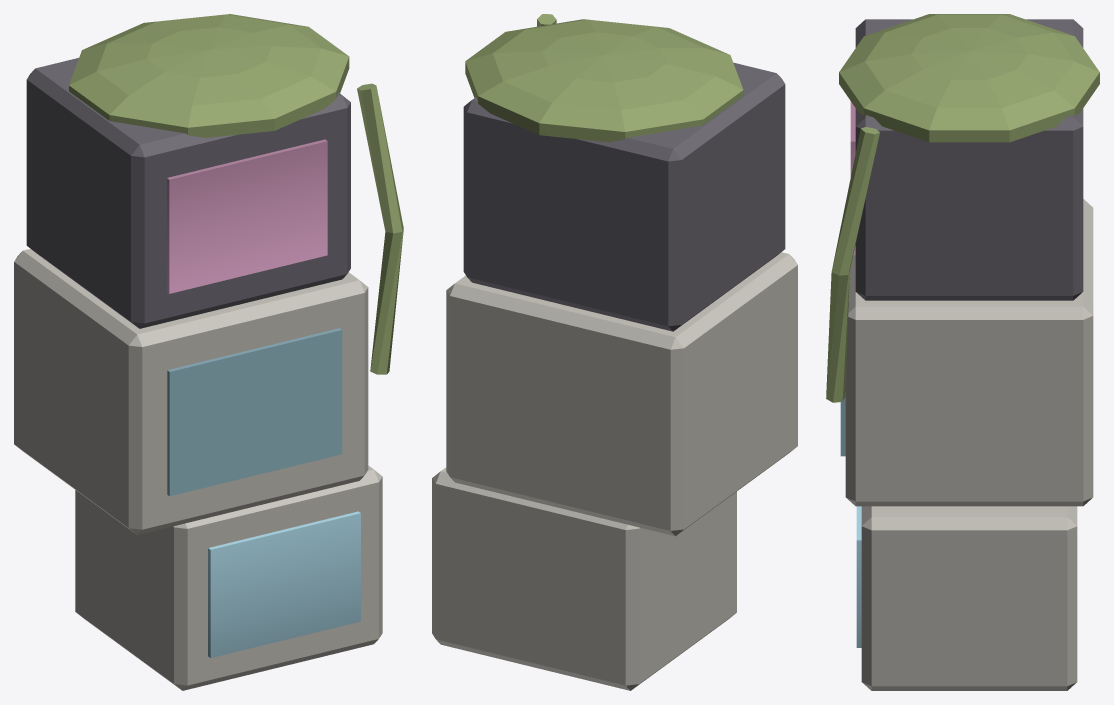
Rendered from CRTStack.fbx.
The picture shows the model from 3 angles, left to right: view 1: azimuth 30°, elevation 25°; view 2: azimuth 150°, elevation 25°; view 3: azimuth 270°, elevation 25°; orthographic projection.
Parts seen in each view (by area): view 1: Prop_CRTStack; view 2: Prop_CRTStack; view 3: Prop_CRTStack.
Boxes of the visible parts, x1=… form: Prop_CRTStack: x1=14, y1=14, x2=403, y2=690; Prop_CRTStack: x1=432, y1=14, x2=797, y2=690; Prop_CRTStack: x1=826, y1=14, x2=1099, y2=690.
Bounding box in the file's own units: 0.6191 × 1.3 × 0.5526.
